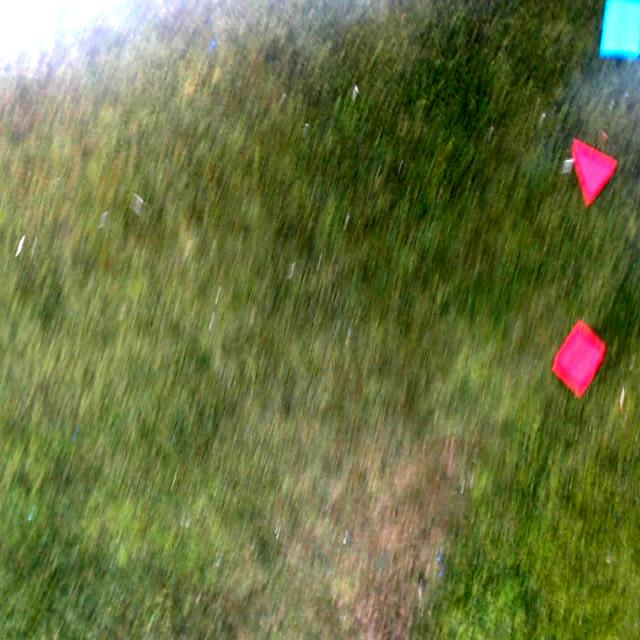red_square: (554, 319, 606, 398)
red_triangle: (571, 140, 616, 206)
